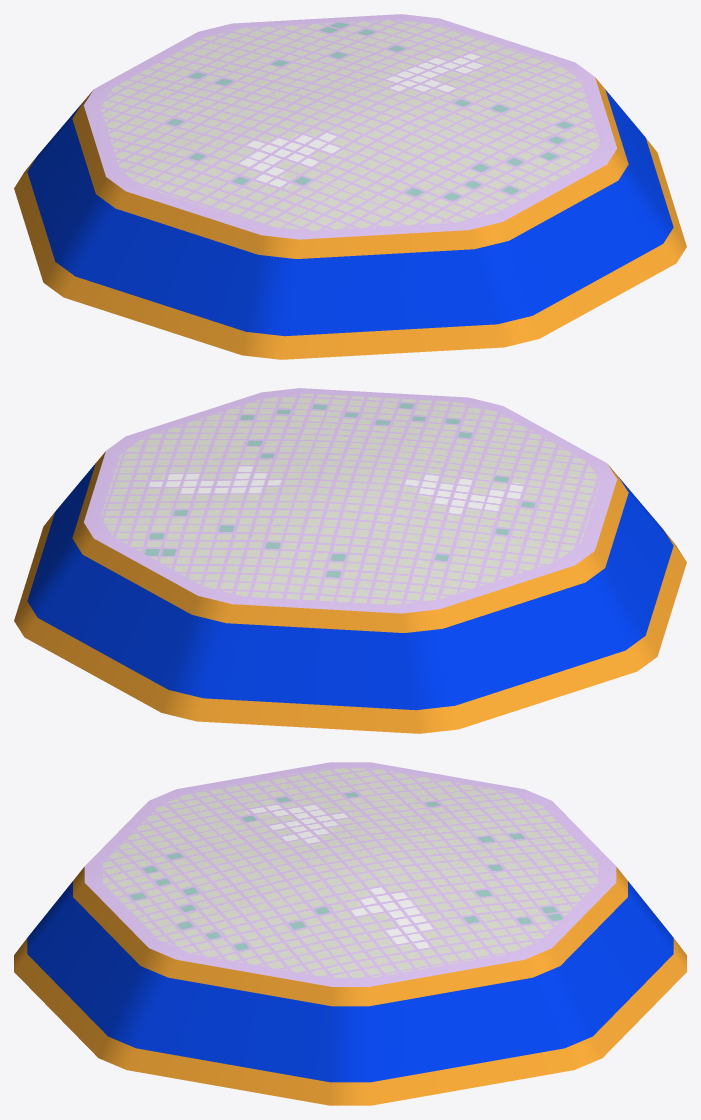
Rendered from OBS0110018.fbx.
3 views of the same model, one above another, from view 1: azimuth 30°, elevation 25°; view 2: azimuth 150°, elevation 25°; view 3: azimuth 270°, elevation 25° (orthographic).
Parts seen in each view (by area): view 1: smOBS0110018; view 2: smOBS0110018; view 3: smOBS0110018.
Part boxes in pixels (left/top/right/bottom): smOBS0110018: left=14, top=14, right=686, bottom=359; smOBS0110018: left=14, top=388, right=686, bottom=733; smOBS0110018: left=14, top=762, right=686, bottom=1105.
Bounding box in the file's own units: 478 × 81.4 × 478.
Materials: 1 (1 with a texture image).
